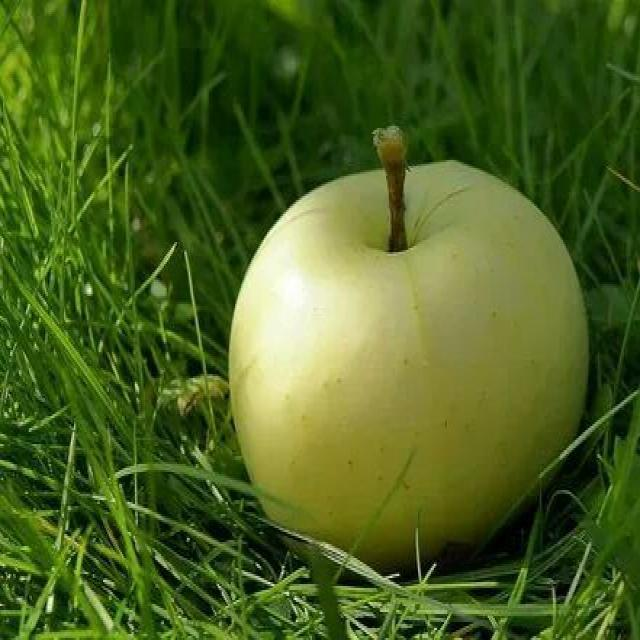Fresh Apple: (252, 175, 595, 573)
